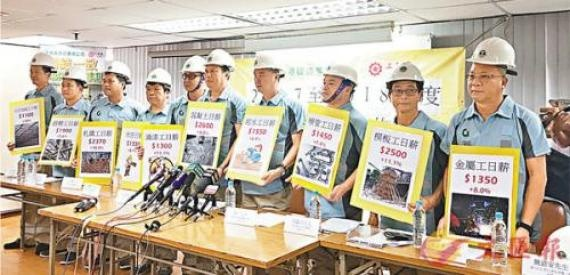white: (464, 37, 518, 102), (385, 61, 425, 112), (320, 60, 357, 104), (250, 51, 286, 93), (203, 48, 235, 89), (101, 59, 132, 96), (144, 68, 173, 106), (26, 52, 55, 86), (59, 66, 88, 100), (180, 54, 204, 94)
